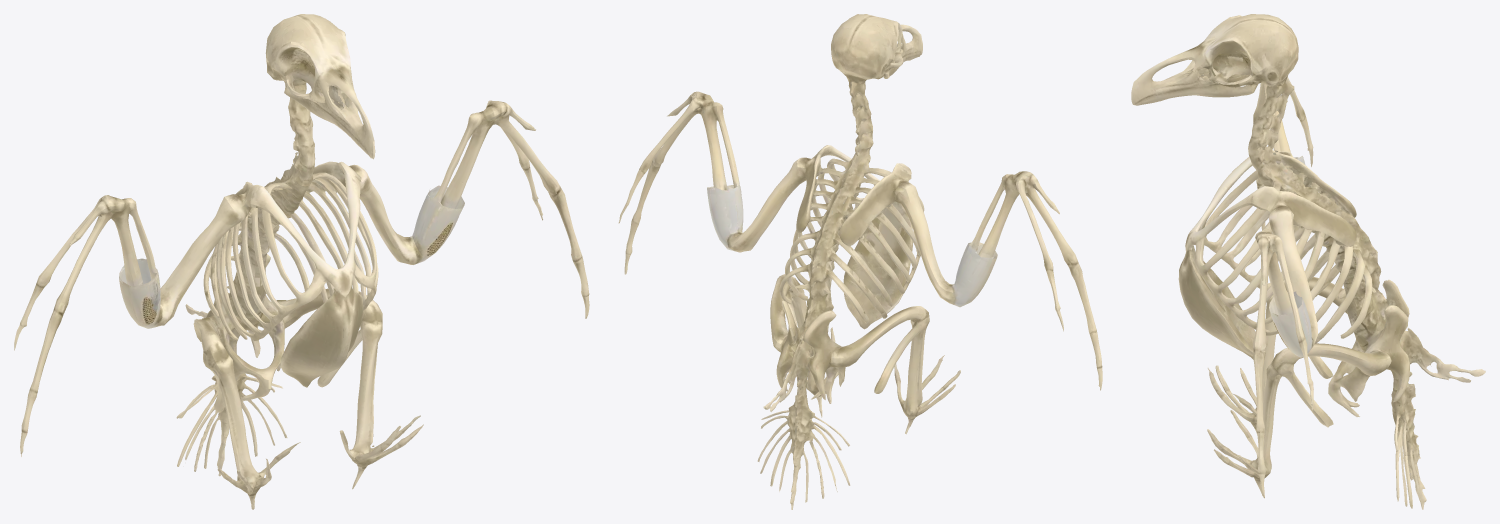
Rendered from bird_skeleton.glb.
The picture shows the model from 3 angles, left to right: view 1: azimuth 30°, elevation 25°; view 2: azimuth 150°, elevation 25°; view 3: azimuth 270°, elevation 25°; orthographic projection. The views are drawn at different scales.
Parts seen in each view (by area): view 1: Mesh0; view 2: Mesh0; view 3: Mesh0.
Boxes of the visible parts, <box> form: Mesh0: <box>14,14,589,509</box>; Mesh0: <box>618,14,1102,509</box>; Mesh0: <box>1131,14,1485,509</box>.
Bounding box in the file's own units: 1.91 × 1.67 × 1.09.
1 material, 1 textured.
